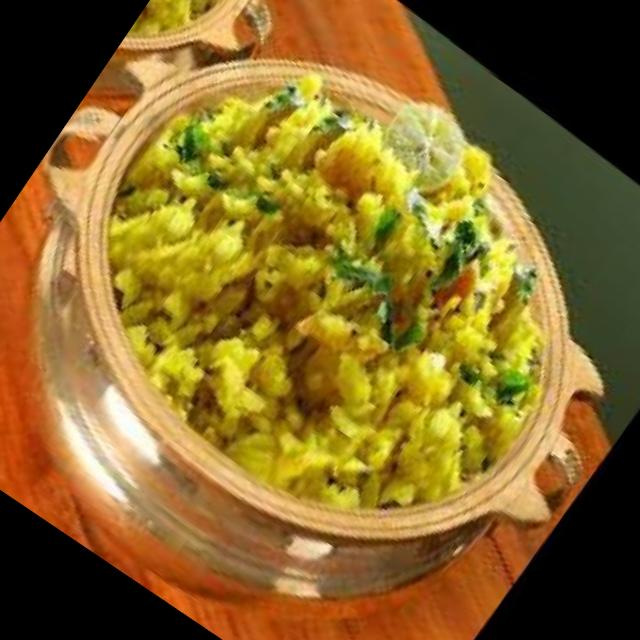poha: (18, 0, 640, 594), (123, 0, 284, 75)
